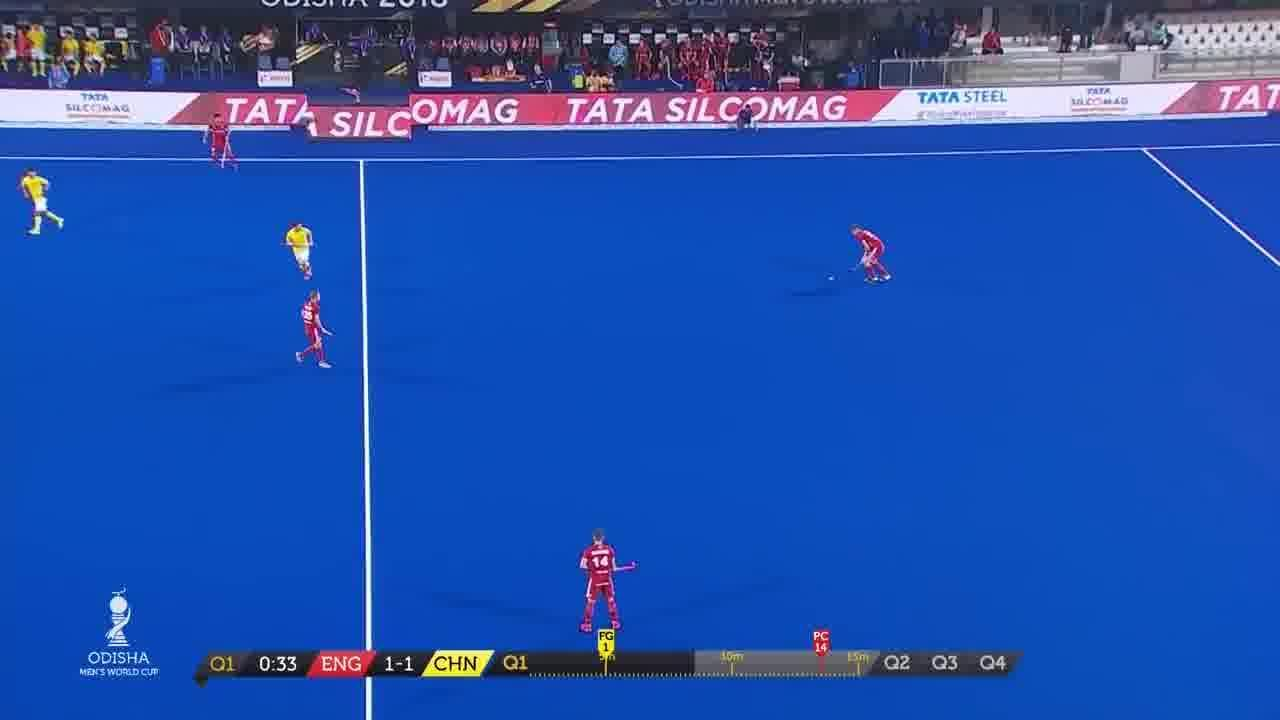ball: (820, 266, 842, 286)
